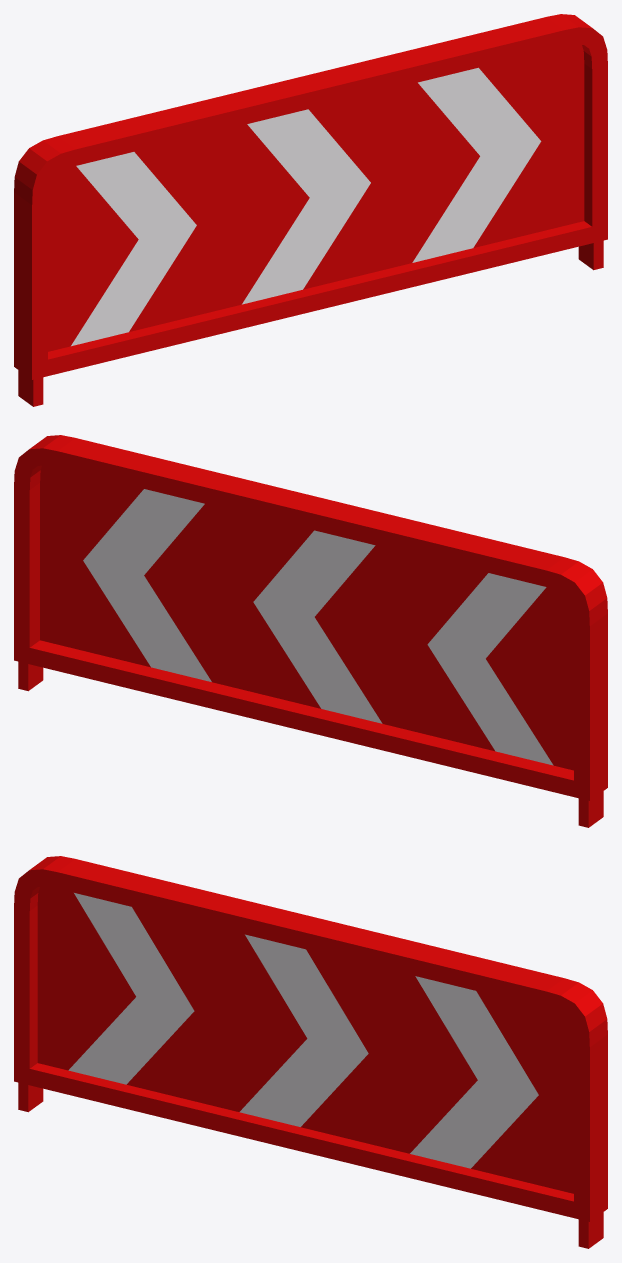
The model's file is Sign_Arrow.fbx.
3 views of the same model, one above another, from view 1: azimuth 30°, elevation 25°; view 2: azimuth 150°, elevation 25°; view 3: azimuth 330°, elevation 25° (orthographic).
Visible parts, largest first — view 1: Cube.011; view 2: Cube.011; view 3: Cube.011.
Part boxes in pixels (<box>): Cube.011: <box>14,14,607,406</box>; Cube.011: <box>14,435,607,827</box>; Cube.011: <box>14,856,607,1248</box>.
Size of the model in its own units: 400 by 165 by 21.81.
